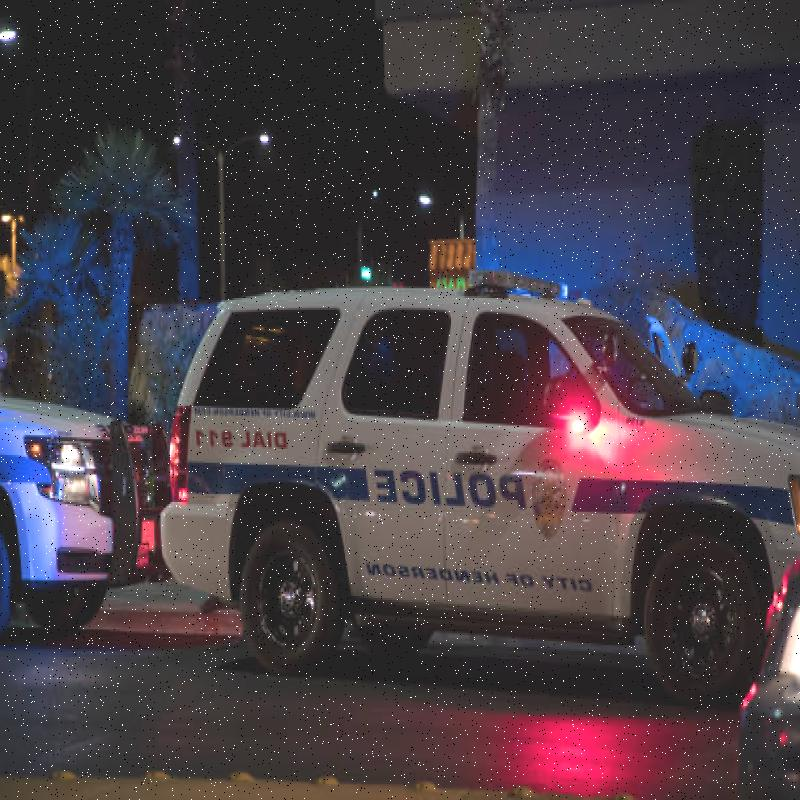AmbulanceSiren: (479, 248, 587, 309)
